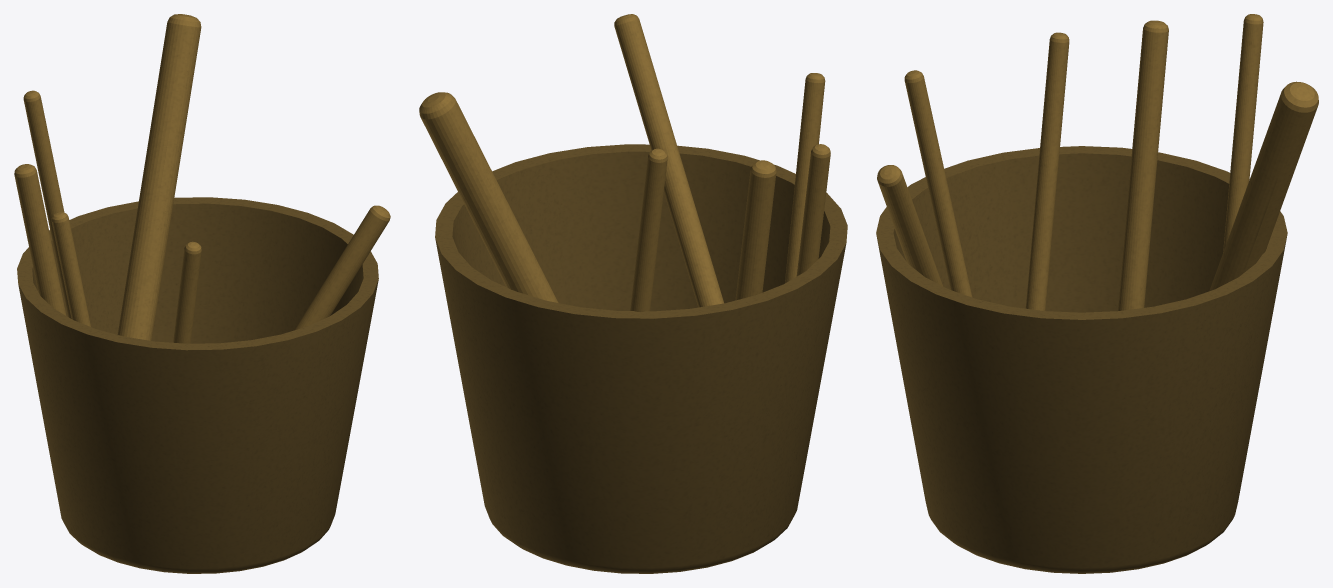
The model's file is KitchenSpoonHolder.001.fbx.
3 views of the same model, side by side, from view 1: azimuth 30°, elevation 25°; view 2: azimuth 150°, elevation 25°; view 3: azimuth 270°, elevation 25° (orthographic). The views are drawn at different scales.
Visible parts, largest first — view 1: KitchenSpoonHolder.001_Baked; view 2: KitchenSpoonHolder.001_Baked; view 3: KitchenSpoonHolder.001_Baked.
Part boxes in pixels (x1,y1,x2,y2): KitchenSpoonHolder.001_Baked: (14,14,390,573); KitchenSpoonHolder.001_Baked: (419,14,847,573); KitchenSpoonHolder.001_Baked: (876,14,1318,573).
Bounding box in the file's own units: 21.62 × 27.39 × 23.26.
1 material, 1 textured.
